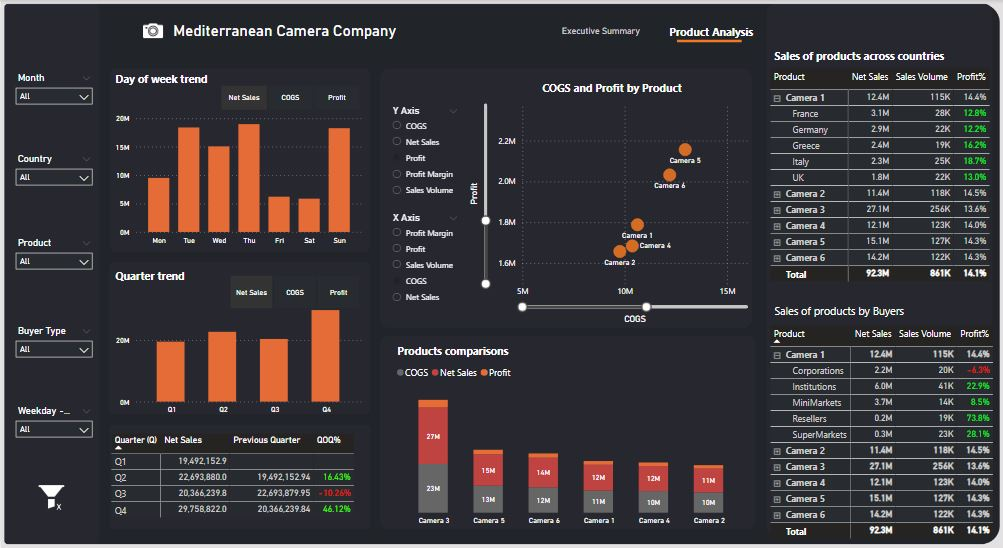

The dashboard page shown, as its layout file describes it:
{"tool":"powerbi","page":{"name":"Product Analysis","canvas":[1500,820],"ordinal":1},"visuals":[{"type":"scatterChart","fields":{"X":["_Measures.COGS"],"Y":["_Measures.Profit"],"Category":["Mediterranean Cameras Company.Product"]},"box":[695,121.7,440,368.3],"z":0},{"type":"slicer","fields":{"Values":["y axis.y axis"]},"box":[573.1,152.6,122.7,163.1],"z":1000},{"type":"slicer","fields":{"Values":["x axis.x axis"]},"box":[573.1,312.7,122.7,169.1],"z":2000},{"type":"columnChart","fields":{"Y":["_Measures.COGS","_Measures.Net Sales","_Measures.Profit"],"Category":["Mediterranean Cameras Company.Product"]},"box":[587.1,537.1,535.5,256.5],"z":3000},{"type":"columnChart","fields":{"Y":["_Measures.Net Sales"],"Category":["Calendar.Day Name (S)"]},"box":[166.7,163.3,380,210],"z":4000},{"type":"columnChart","fields":{"Y":["_Measures.Net Sales"],"Category":["Calendar.Quarter (Q)"]},"box":[166.7,448.3,380,178.3],"z":5000},{"type":"textbox","title":"Mediterranean Camera Company","box":[252.8,32.3,474.2,64.5],"z":6000},{"type":"pageNavigator","box":[820,22.4,321.7,49.4],"z":7000},{"type":"shape","box":[1011.5,43.4,97.3,35.9],"z":8000},{"type":"pivotTable","fields":{"Rows":["Mediterranean Cameras Company.Product","Mediterranean Cameras Company.Country"],"Values":["_Measures.Net Sales","_Measures.Sales Volume","_Measures.Profit Margin"]},"box":[1146.8,96.8,353.2,343.5],"z":9000},{"type":"pivotTable","fields":{"Rows":["Mediterranean Cameras Company.Product","Mediterranean Cameras Company.Buyer Type"],"Values":["_Measures.Net Sales","_Measures.Sales Volume","_Measures.Profit Margin"]},"box":[1146.8,482.3,353.2,332.3],"z":10000},{"type":"textbox","box":[1151.6,67.7,283.9,72.6],"z":11000},{"type":"textbox","box":[1151.6,448.4,283.9,72.6],"z":12000},{"type":"textbox","box":[588.3,508.3,285,71.7],"z":13000},{"type":"pivotTable","fields":{"Rows":["Calendar.Quarter (Q)"],"Values":["_Measures.Net Sales","_Measures.QOQ Sales","_Measures.QOQ Sales%"]},"box":[159.7,643.5,427.4,150],"z":14000},{"type":"slicer","fields":{"Values":["Calendar.First Characters"]},"box":[11.7,103.3,135,91.7],"z":15000},{"type":"slicer","fields":{"Values":["Mediterranean Cameras Company.Country"]},"box":[11.7,225,135,91.7],"z":16000},{"type":"slicer","fields":{"Values":["Mediterranean Cameras Company.Product"]},"box":[11.7,350,135,91.7],"z":17000},{"type":"slicer","fields":{"Values":["Mediterranean Cameras Company.Buyer Type"]},"box":[11.7,481.7,135,91.7],"z":18000},{"type":"slicer","fields":{"Values":["Calendar.Weekday - Weekend"]},"box":[11.7,601.7,135,91.7],"z":19000},{"type":"textbox","box":[166.7,101.7,190,71.7],"z":20000},{"type":"textbox","box":[166.7,396.7,126.7,71.7],"z":21000},{"type":"slicer","fields":{"Values":["Analyze By.Analyze By"]},"box":[303.3,121.7,256.7,50],"z":22000},{"type":"slicer","fields":{"Values":["Analyze 2.Analyze 2"]},"box":[316.7,405,243.3,63.3],"z":23000},{"type":"image","box":[200,27.4,53.2,40.3],"z":24000},{"type":"image","box":[47,699.7,58.1,85.5],"z":25000},{"type":"actionButton","box":[21.9,699.7,113.7,85.3],"z":26000}]}

Visuals, with their boxes in screenshot pixels (x1, y1, x2, y2), scaled from the page's 1500x820 canvas onto the 1003x548 screenshot:
scatterChart - _Measures.COGS x _Measures.Profit: detection(465, 81, 759, 327)
slicer - y axis.y axis: detection(383, 102, 465, 211)
slicer - x axis.x axis: detection(383, 209, 465, 322)
columnChart - _Measures.COGS x _Measures.Net Sales: detection(393, 359, 751, 530)
columnChart - _Measures.Net Sales x Calendar.Day Name (S): detection(111, 109, 366, 249)
columnChart - _Measures.Net Sales x Calendar.Quarter (Q): detection(111, 300, 366, 419)
"Mediterranean Camera Company" textbox: detection(169, 22, 486, 65)
pageNavigator: detection(548, 15, 763, 48)
shape: detection(676, 29, 741, 53)
pivotTable - Mediterranean Cameras Company.Product x Mediterranean Cameras Company.Country: detection(767, 65, 1002, 294)
pivotTable - Mediterranean Cameras Company.Product x Mediterranean Cameras Company.Buyer Type: detection(767, 322, 1002, 544)
textbox: detection(770, 45, 960, 94)
textbox: detection(770, 300, 960, 348)
textbox: detection(393, 340, 584, 388)
pivotTable - Calendar.Quarter (Q) x _Measures.Net Sales: detection(107, 430, 393, 530)
slicer - Calendar.First Characters: detection(8, 69, 98, 130)
slicer - Mediterranean Cameras Company.Country: detection(8, 150, 98, 212)
slicer - Mediterranean Cameras Company.Product: detection(8, 234, 98, 295)
slicer - Mediterranean Cameras Company.Buyer Type: detection(8, 322, 98, 383)
slicer - Calendar.Weekday - Weekend: detection(8, 402, 98, 463)
textbox: detection(111, 68, 239, 116)
textbox: detection(111, 265, 196, 313)
slicer - Analyze By.Analyze By: detection(203, 81, 374, 115)
slicer - Analyze 2.Analyze 2: detection(212, 271, 374, 313)
image: detection(134, 18, 169, 45)
image: detection(31, 468, 70, 525)
actionButton: detection(15, 468, 91, 525)
